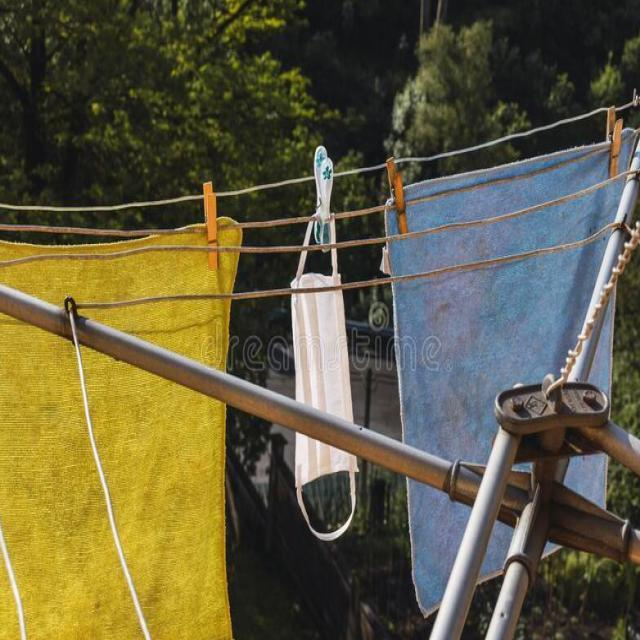clothes: (10, 398, 218, 640), (396, 331, 503, 432), (280, 304, 365, 402)
